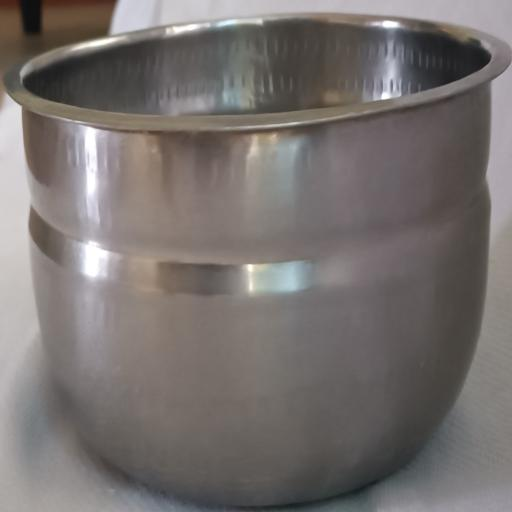vessel: (5, 15, 510, 505)
